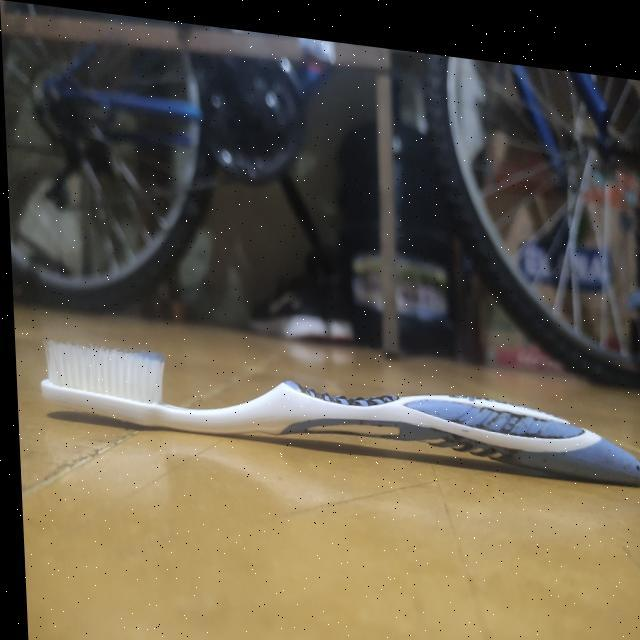toothbrush: (28, 326, 640, 494)
